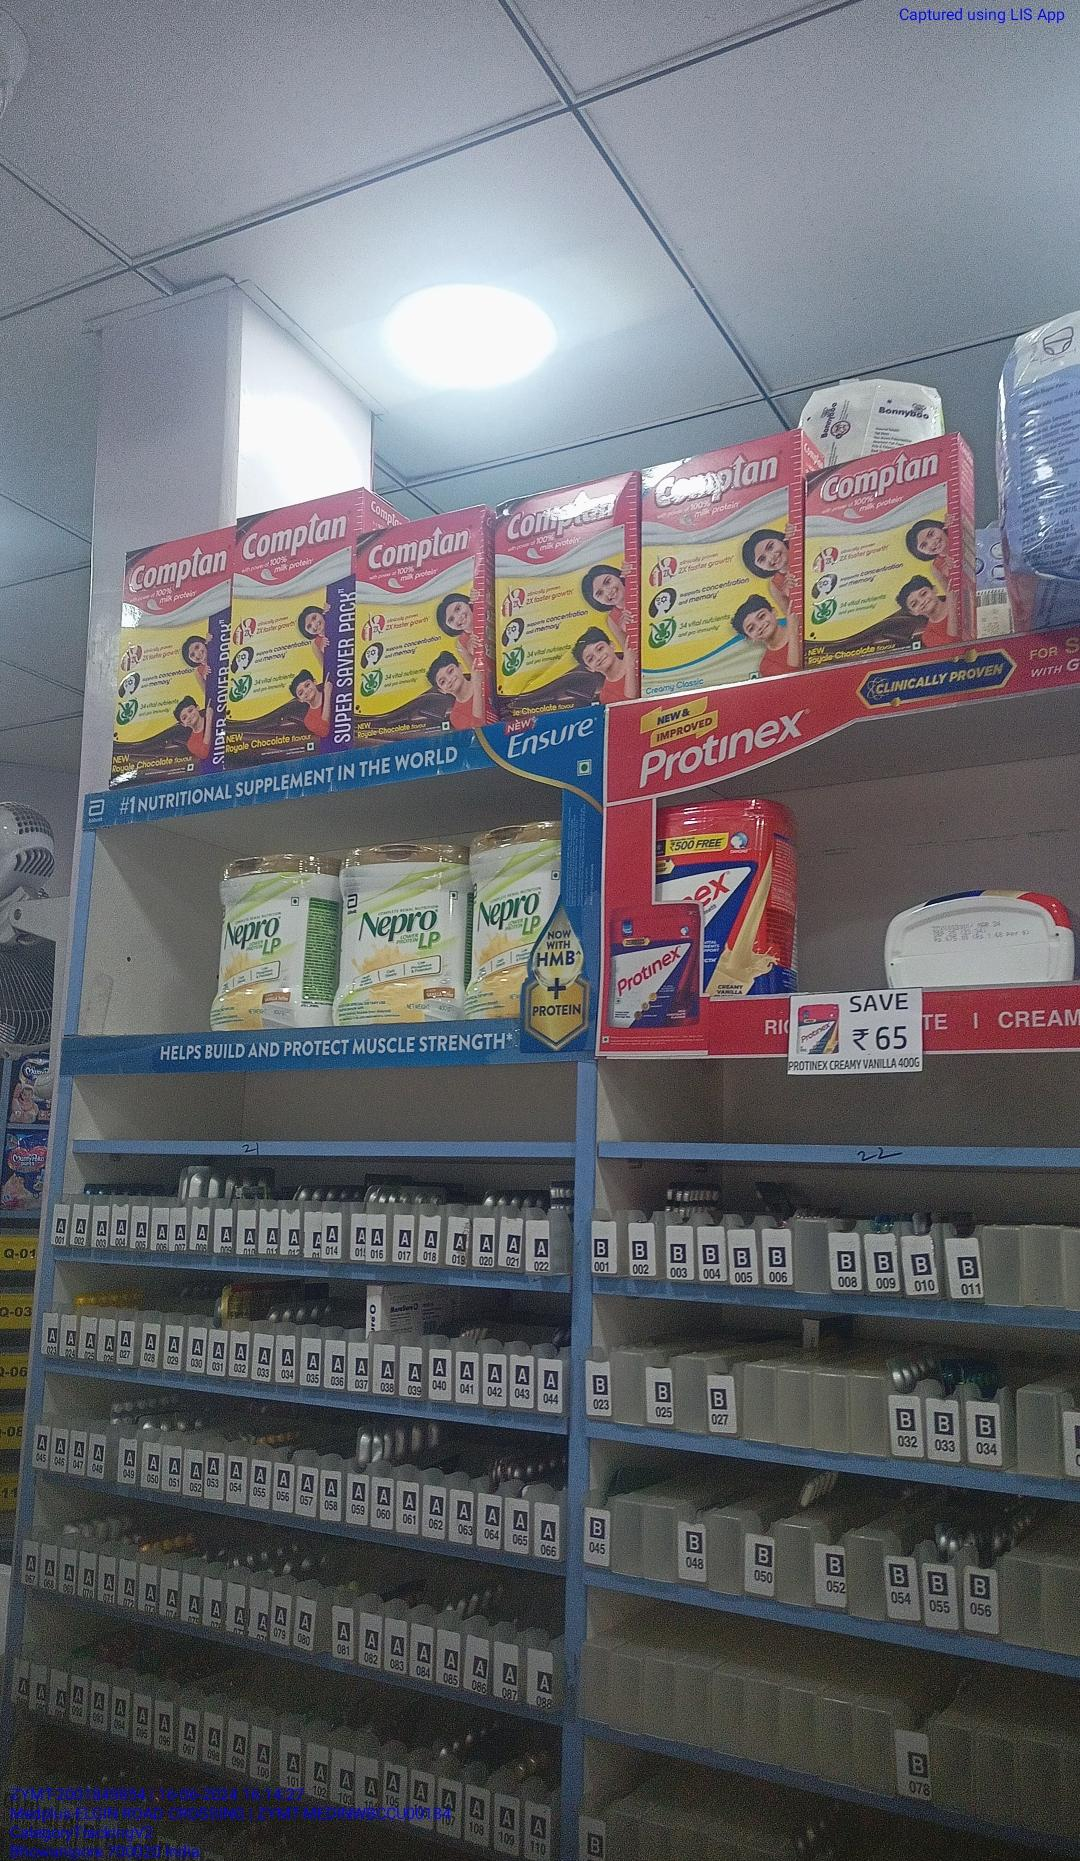COMPLAN_CHOCOLATE_1_KG_PACK: (229, 500, 355, 752), (116, 542, 220, 774)
COMPLAN_CHOCOLATE_500_GMS_PACK: (802, 445, 962, 666), (494, 503, 636, 700), (359, 533, 483, 734)
COMPLAN_CREAMY_CLASSIC_500_G_PACK: (642, 441, 796, 670)
